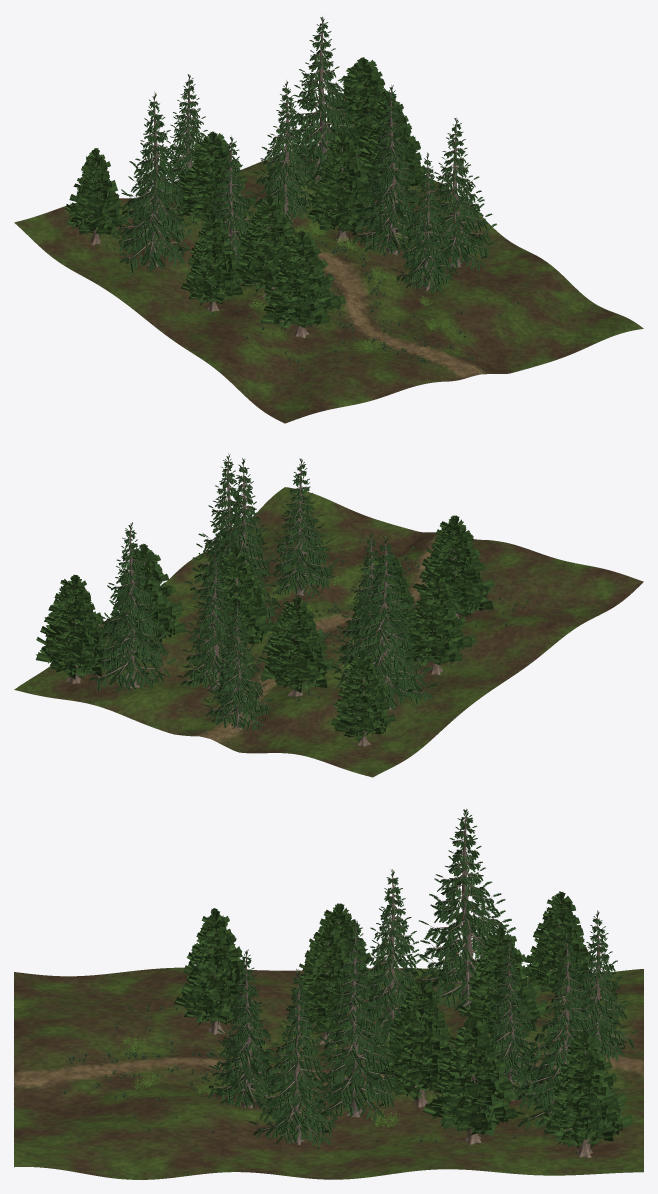
File: woodland-clearing.glb
The picture shows the model from 3 angles, top to bottom: view 1: azimuth 30°, elevation 25°; view 2: azimuth 150°, elevation 25°; view 3: azimuth 270°, elevation 25°; orthographic projection. The views are drawn at different scales.
Parts seen in each view (by area): view 1: Forest floor and footpath, Norway spruce 05, Norway spruce 02, Pine 01, Norway spruce 07, Norway spruce 04, Pine 03, Norway spruce 06, Norway spruce 01, Pine 04, Pine 02, Pine 07 (+5 smaller); view 2: Forest floor and footpath, Norway spruce 07, Norway spruce 05, Pine 08, Pine 05, Norway spruce 01, Pine 01, Norway spruce 08, Pine 04, Norway spruce 06, Pine 07, Pine 03 (+5 smaller); view 3: Forest floor and footpath, Norway spruce 02, Norway spruce 05, Norway spruce 04, Pine 06, Pine 08, Norway spruce 07, Pine 03, Norway spruce 01, Pine 01, Norway spruce 03, Norway spruce 06 (+5 smaller).
Boxes of the visible parts, x1=… form: Forest floor and footpath: x1=14, y1=145, x2=643, y2=423; Norway spruce 05: x1=109, y1=91, x2=192, y2=273; Norway spruce 02: x1=344, y1=84, x2=432, y2=255; Pine 01: x1=260, y1=230, x2=346, y2=337; Norway spruce 07: x1=274, y1=16, x2=364, y2=189; Norway spruce 04: x1=423, y1=117, x2=496, y2=271; Pine 03: x1=307, y1=131, x2=378, y2=242; Norway spruce 06: x1=251, y1=80, x2=317, y2=225; Norway spruce 01: x1=391, y1=152, x2=459, y2=293; Pine 04: x1=181, y1=212, x2=244, y2=311; Pine 02: x1=234, y1=195, x2=296, y2=297; Pine 07: x1=65, y1=148, x2=128, y2=245; Forest floor and footpath: x1=14, y1=487, x2=643, y2=777; Norway spruce 07: x1=85, y1=522, x2=176, y2=692; Norway spruce 05: x1=331, y1=536, x2=437, y2=709; Pine 08: x1=36, y1=574, x2=110, y2=683; Pine 05: x1=258, y1=596, x2=334, y2=696; Norway spruce 01: x1=270, y1=458, x2=339, y2=598; Pine 01: x1=412, y1=515, x2=494, y2=618; Norway spruce 08: x1=203, y1=600, x2=274, y2=730; Pine 04: x1=403, y1=575, x2=476, y2=674; Norway spruce 06: x1=176, y1=552, x2=255, y2=695; Pine 07: x1=331, y1=650, x2=395, y2=746; Pine 03: x1=198, y1=546, x2=274, y2=655; Forest floor and footpath: x1=14, y1=967, x2=643, y2=1179; Norway spruce 02: x1=317, y1=919, x2=407, y2=1122; Norway spruce 05: x1=405, y1=808, x2=532, y2=1017; Norway spruce 04: x1=248, y1=969, x2=339, y2=1145; Pine 06: x1=423, y1=1018, x2=518, y2=1144; Pine 08: x1=543, y1=1029, x2=633, y2=1157; Norway spruce 07: x1=510, y1=933, x2=619, y2=1128; Pine 03: x1=374, y1=979, x2=454, y2=1107; Norway spruce 01: x1=201, y1=949, x2=287, y2=1108; Pine 01: x1=174, y1=908, x2=256, y2=1034; Norway spruce 03: x1=351, y1=869, x2=437, y2=1044; Norway spruce 06: x1=485, y1=938, x2=548, y2=1103.
Size of the model in its own units: 26.19 by 12.56 by 34.
10 materials, 10 textured.
